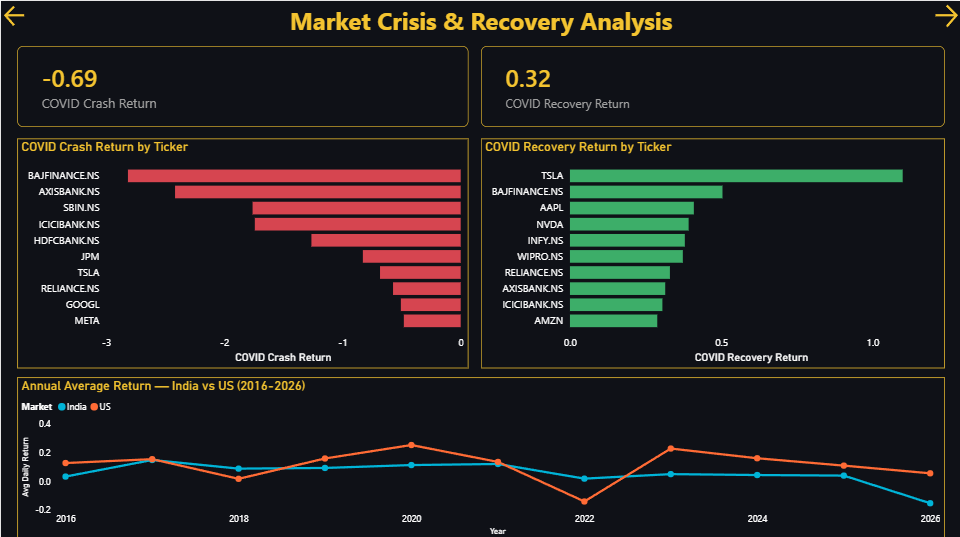

The dashboard page shown, as its layout file describes it:
{"tool":"powerbi","page":{"name":"Crisis & Recovery","canvas":[1280,720],"ordinal":2},"visuals":[{"type":"textbox","box":[0,0,1280,60],"z":0},{"type":"cardVisual","fields":{"Data":["_Measures.COVID Recovery Return"]},"box":[640,60,618.3,108.3],"z":1000},{"type":"cardVisual","fields":{"Data":["_Measures.COVID Crash Return"]},"box":[21.7,60,601.7,108.3],"z":2000},{"type":"clusteredBarChart","fields":{"Category":["stock_summary.Ticker"],"Y":["_Measures.COVID Crash Return"]},"box":[21.7,183.3,601.7,306.7],"z":3000},{"type":"clusteredBarChart","title":"COVID Recovery Return by Ticker","fields":{"Category":["stock_data_clean.Ticker"],"Y":["_Measures.COVID Recovery Return"]},"box":[640,183.3,618.3,306.7],"z":4000},{"type":"lineChart","title":"Annual Average Return — India vs US (2016-2026)","fields":{"Category":["stock_data_clean.Date.Variation.Date Hierarchy.Year","stock_data_clean.Date.Variation.Date Hierarchy.Quarter","stock_data_clean.Date.Variation.Date Hierarchy.Month","stock_data_clean.Date.Variation.Date Hierarchy.Day"],"Y":["_Measures.Avg Daily Return"],"Series":["stock_data_clean.Market"]},"box":[21.7,501.7,1236.7,218.3],"z":5000},{"type":"actionButton","box":[0,0,36.7,40],"z":5001},{"type":"actionButton","box":[1240,0,40,40],"z":5002}]}

Visuals, with their boxes in screenshot pixels (x1, y1, x2, y2), scaled from the page's 1280x720 canvas onto the 960x537 screenshot:
textbox: {"x1": 0, "y1": 0, "x2": 959, "y2": 45}
cardVisual - _Measures.COVID Recovery Return: {"x1": 480, "y1": 45, "x2": 944, "y2": 126}
cardVisual - _Measures.COVID Crash Return: {"x1": 16, "y1": 45, "x2": 468, "y2": 126}
clusteredBarChart - stock_summary.Ticker x _Measures.COVID Crash Return: {"x1": 16, "y1": 137, "x2": 468, "y2": 365}
"COVID Recovery Return by Ticker" clusteredBarChart: {"x1": 480, "y1": 137, "x2": 944, "y2": 365}
"Annual Average Return — India vs US (2016-2026)" lineChart: {"x1": 16, "y1": 374, "x2": 944, "y2": 536}
actionButton: {"x1": 0, "y1": 0, "x2": 28, "y2": 30}
actionButton: {"x1": 930, "y1": 0, "x2": 959, "y2": 30}
